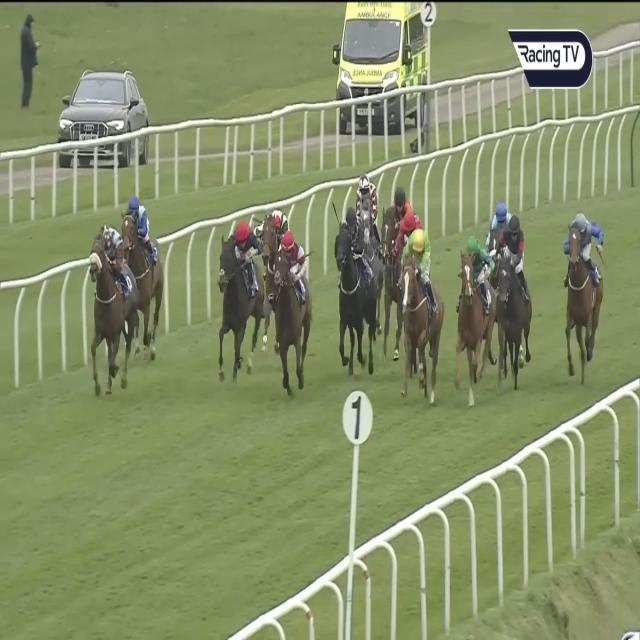horses-racing: (88, 222, 134, 379), (560, 208, 604, 372), (402, 225, 441, 399), (218, 225, 264, 370), (122, 195, 164, 345), (333, 202, 378, 342), (459, 235, 492, 388), (274, 233, 306, 389), (499, 212, 527, 385), (252, 202, 287, 278), (353, 167, 378, 251), (396, 201, 422, 264), (483, 201, 512, 247), (385, 186, 406, 239)
